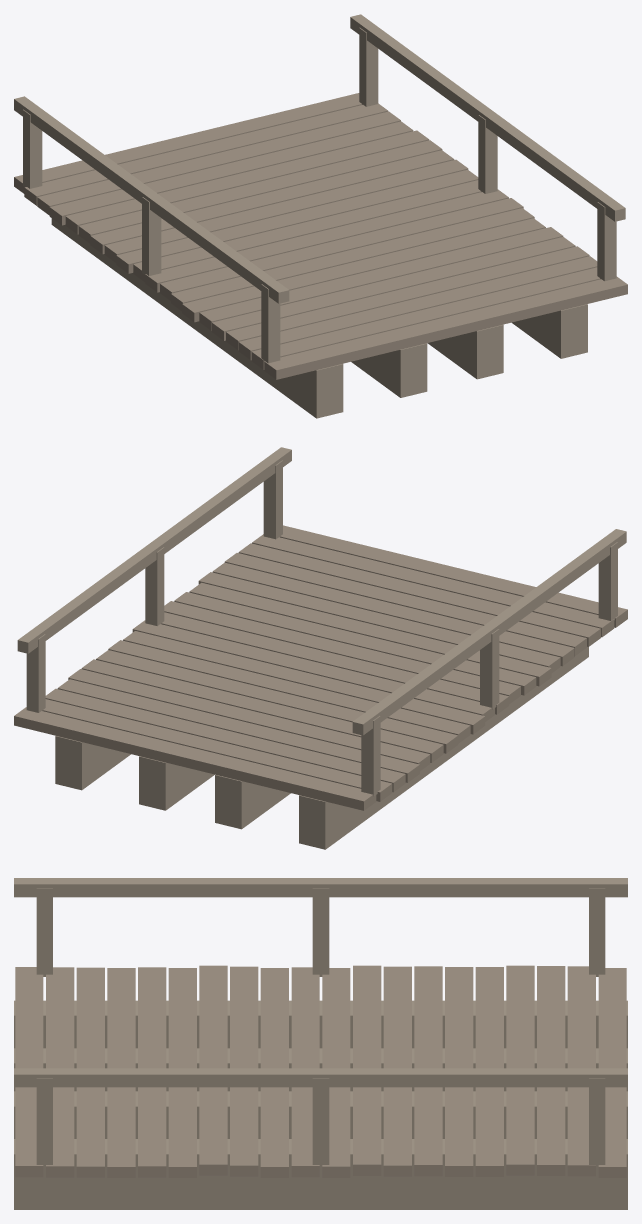
The model's file is bridge_timber.glb.
3 renders of one model, top to bottom at view 1: azimuth 30°, elevation 25°; view 2: azimuth 150°, elevation 25°; view 3: azimuth 270°, elevation 25°, orthographic. The views are drawn at different scales.
Parts seen in each view (by area): view 1: bridge_timber_LOD0; view 2: bridge_timber_LOD0; view 3: bridge_timber_LOD0.
Part boxes in pixels (x1,y1,x2,y2): bridge_timber_LOD0: (14, 14, 627, 418); bridge_timber_LOD0: (14, 447, 627, 849); bridge_timber_LOD0: (14, 878, 627, 1209).
Size of what is drawn, in the model's own units: 4.66 by 1.69 by 6.
